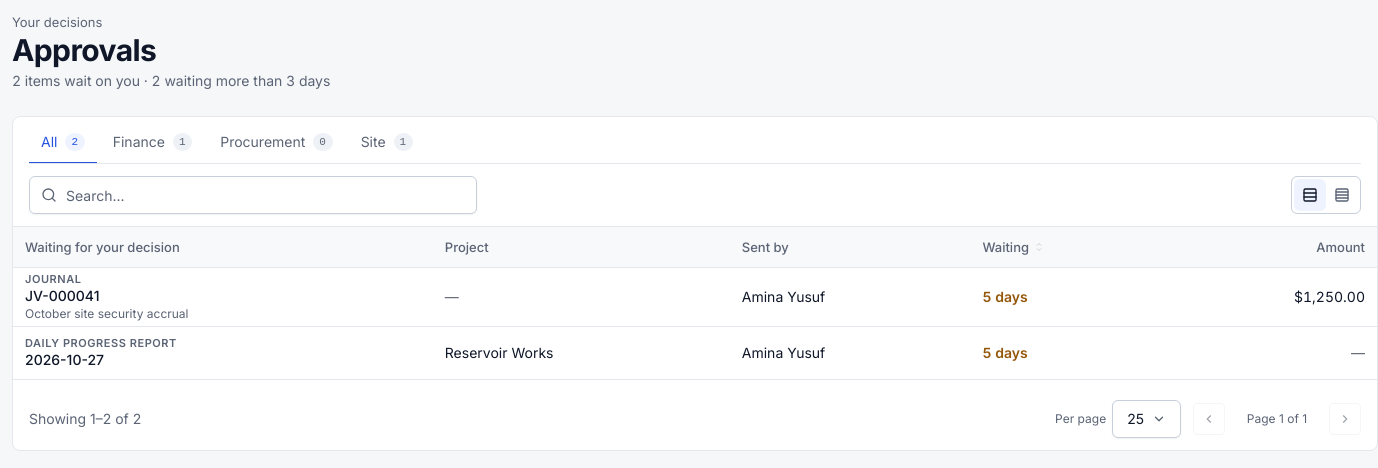
Test case: ApprovalsInbox (Step 3, ADR-049) › narrows to one area with the tabs, each carrying its count
This screenshot has width=1378, height=468.
Expected: the table is shown, [13,227,1377,378]
Click the tab "Site 1": (387, 142) [349,121,425,164]
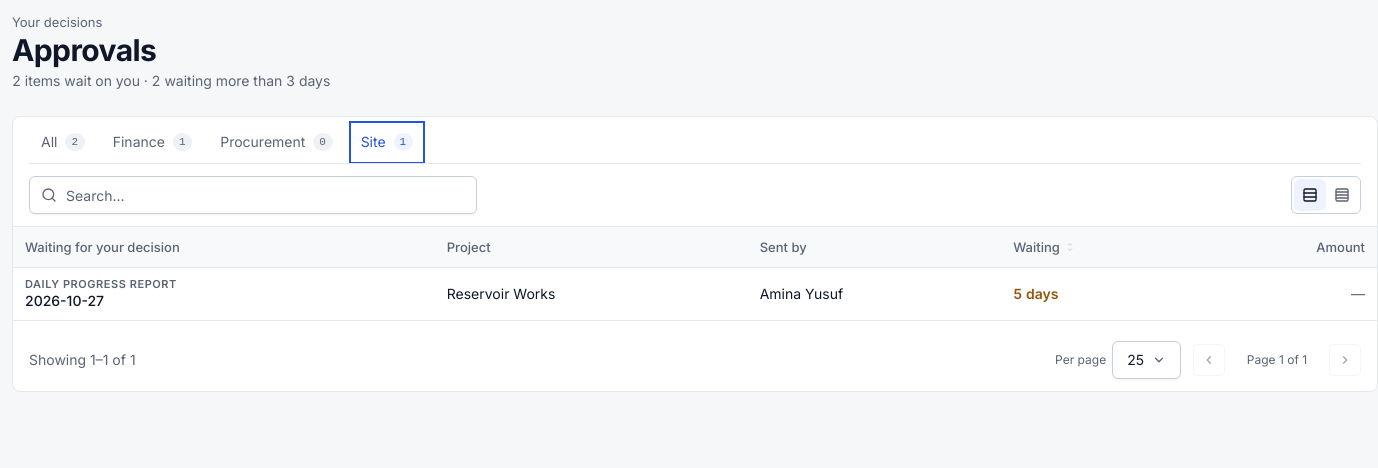
Expected: the text "2026-10-27" is shown, [25,292,104,308]
Now the link "JV-000041" is gone
